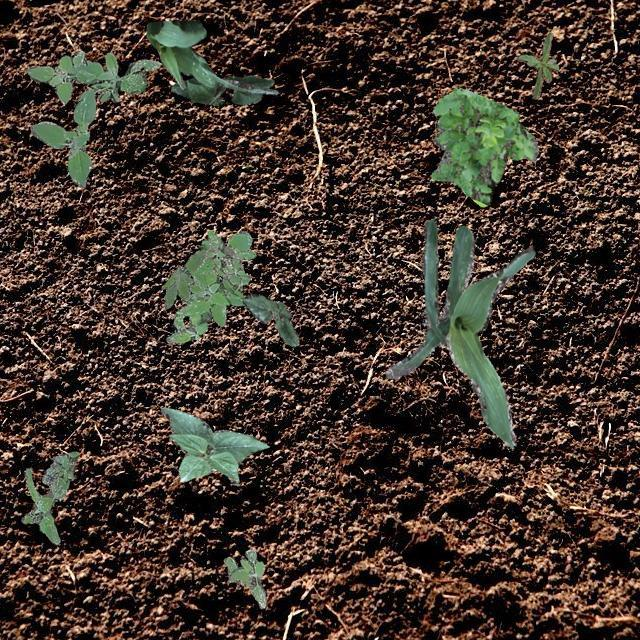crop: (384, 218, 534, 448), (146, 20, 278, 94), (160, 406, 268, 484), (170, 74, 272, 105), (242, 292, 298, 346)
weed: (26, 50, 160, 186), (430, 86, 538, 206), (166, 235, 254, 342), (186, 230, 250, 326), (21, 451, 78, 544), (160, 248, 207, 308), (516, 32, 558, 98), (222, 548, 266, 608)
